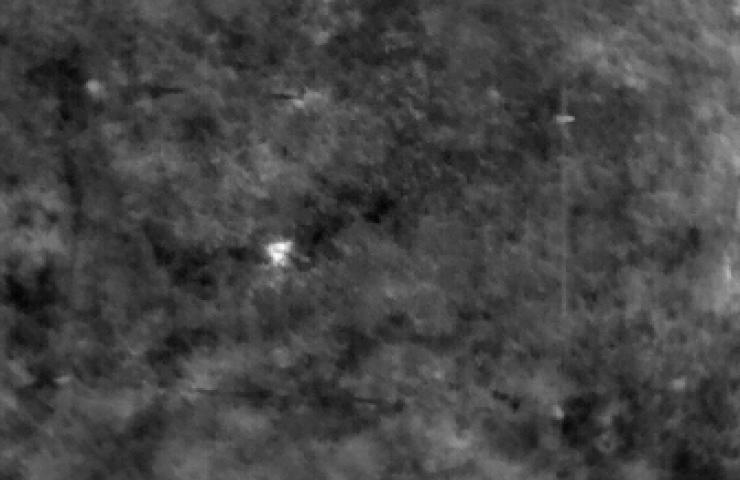landmines: (265, 237, 300, 267)
